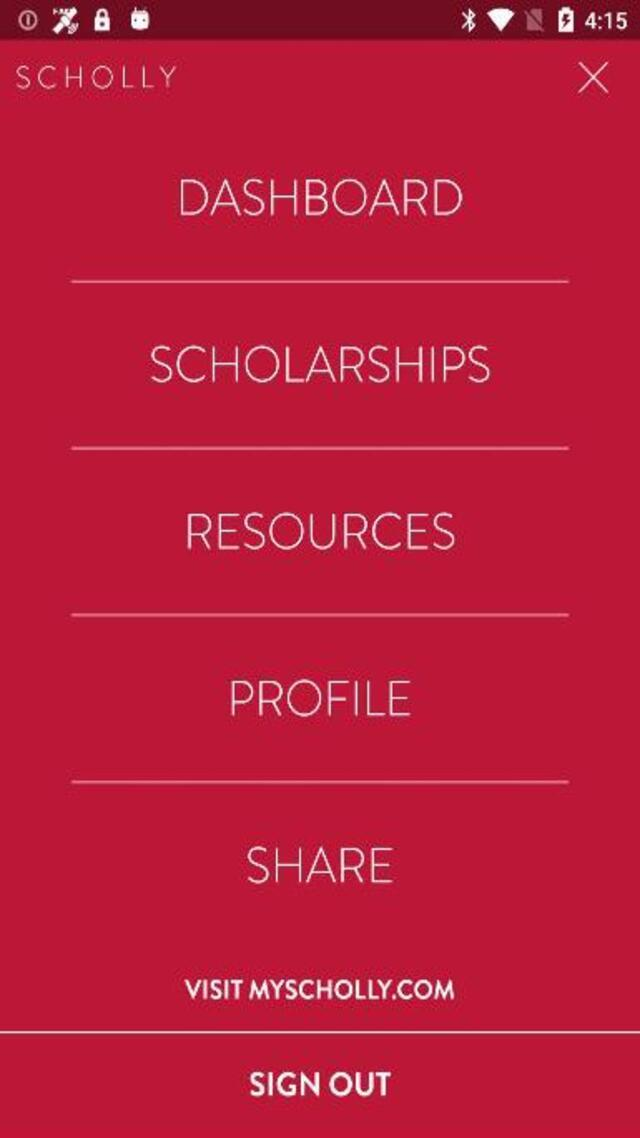Icon: (578, 62, 608, 94)
Text: (150, 344, 492, 384), (178, 178, 462, 218), (186, 511, 456, 552), (229, 678, 411, 718), (240, 1064, 398, 1104), (8, 60, 180, 94), (183, 978, 454, 999), (246, 845, 392, 882)
TextButton: (0, 1032, 638, 1137), (72, 130, 564, 262), (78, 822, 566, 953), (76, 472, 568, 598), (74, 306, 568, 430), (78, 643, 564, 765)
